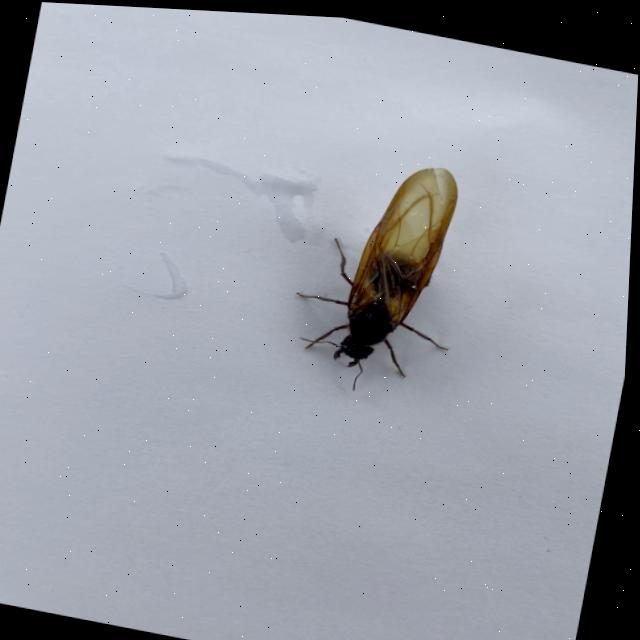Alive-Female-Alate: (282, 140, 483, 404)
